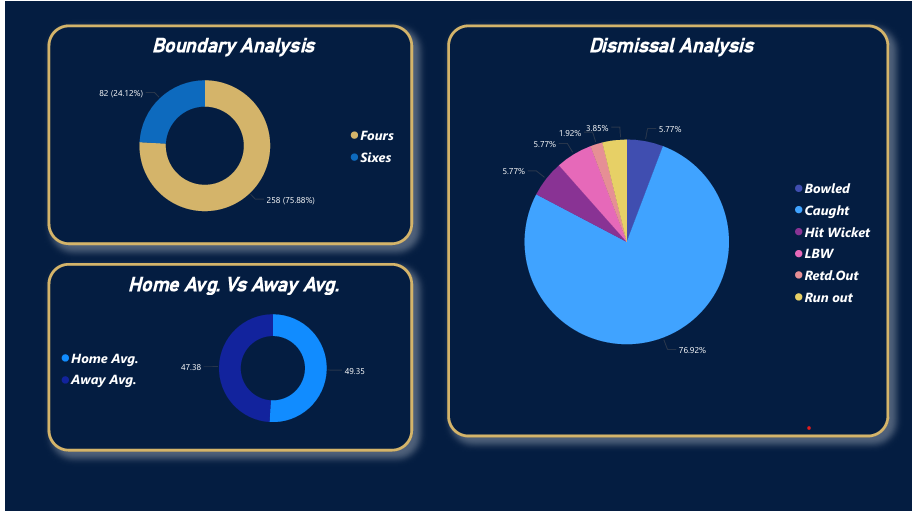

What the dashboard file says about the page in this screenshot:
{"tool":"powerbi","page":{"name":"Performance Insights","canvas":[1280,720],"ordinal":2},"visuals":[{"type":"donutChart","title":"Boundary Analysis","fields":{"Y":["Imp_measure.Fours","Imp_measure.Sixes"]},"box":[60,32.9,516.5,310.6],"z":0},{"type":"pieChart","title":"Dismissal Analysis","fields":{"Series":["ipl_performance_analysis innings.Dismissal"],"Y":["Imp_measure.Innings"]},"box":[623.5,32.9,624.7,582.4],"z":1000},{"type":"donutChart","title":"Home Avg. Vs Away Avg.","fields":{"Y":["Imp_measure.Home Avg.","Imp_measure.Away Avg"]},"box":[60,369.4,516.5,265.9],"z":2000}]}

Visuals, with their boxes in screenshot pixels (x1, y1, x2, y2), scaled from the page's 1280x720 canvas onto the 917x512 screenshot:
"Boundary Analysis" donutChart: x1=43 y1=23 x2=413 y2=244
"Dismissal Analysis" pieChart: x1=447 y1=23 x2=894 y2=438
"Home Avg. Vs Away Avg." donutChart: x1=43 y1=263 x2=413 y2=452
